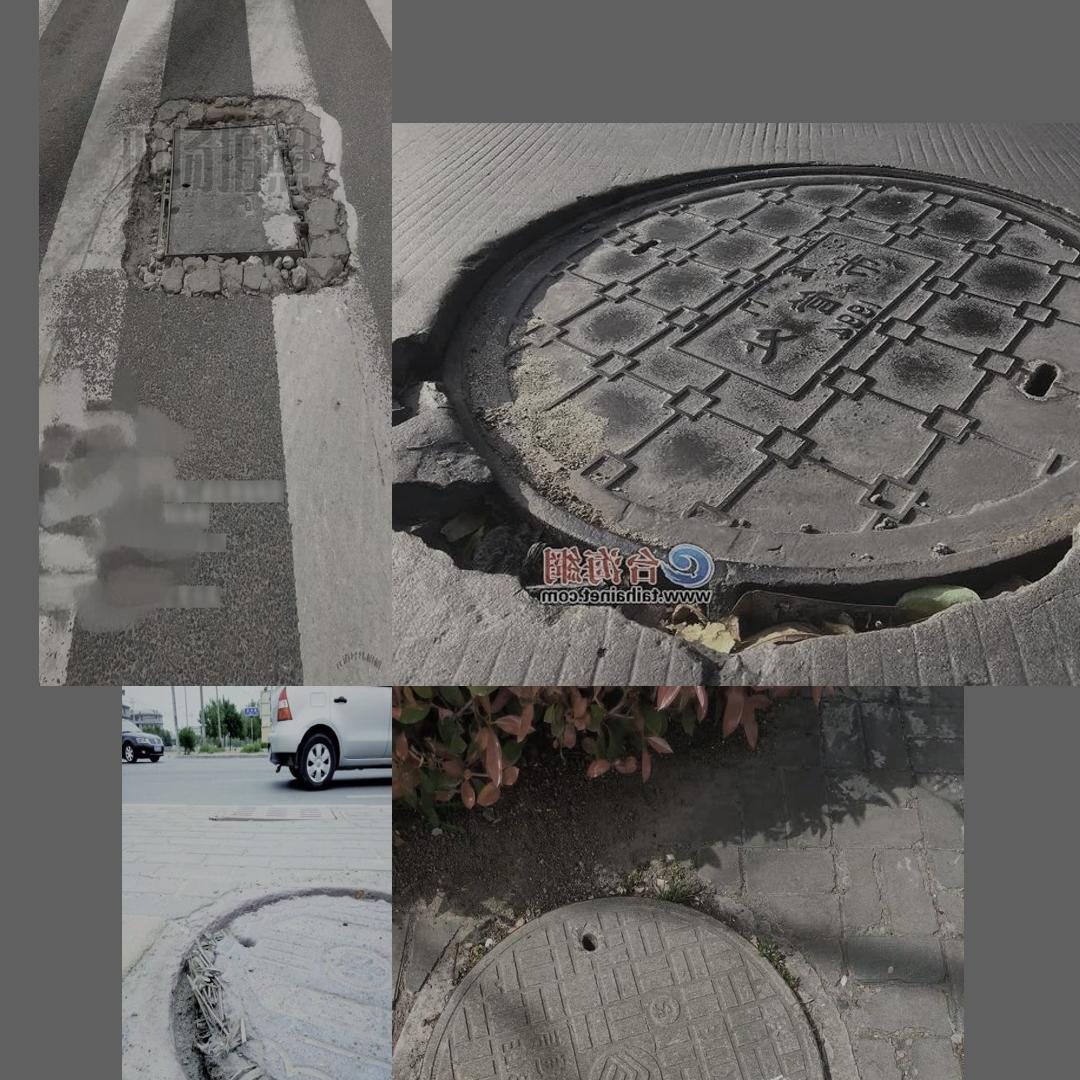circle: (408, 159, 1080, 661), (402, 872, 841, 1080), (175, 373, 392, 686), (137, 871, 387, 1080)
